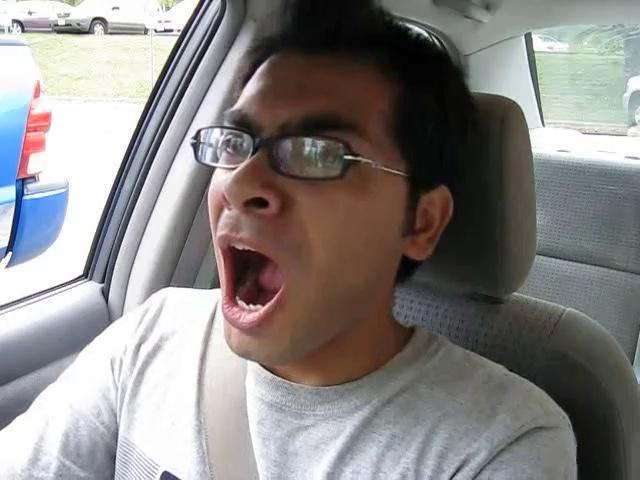open_eyeL: (199, 124, 269, 173)
open_eyeR: (272, 125, 360, 180)
yawn: (203, 234, 302, 334)
